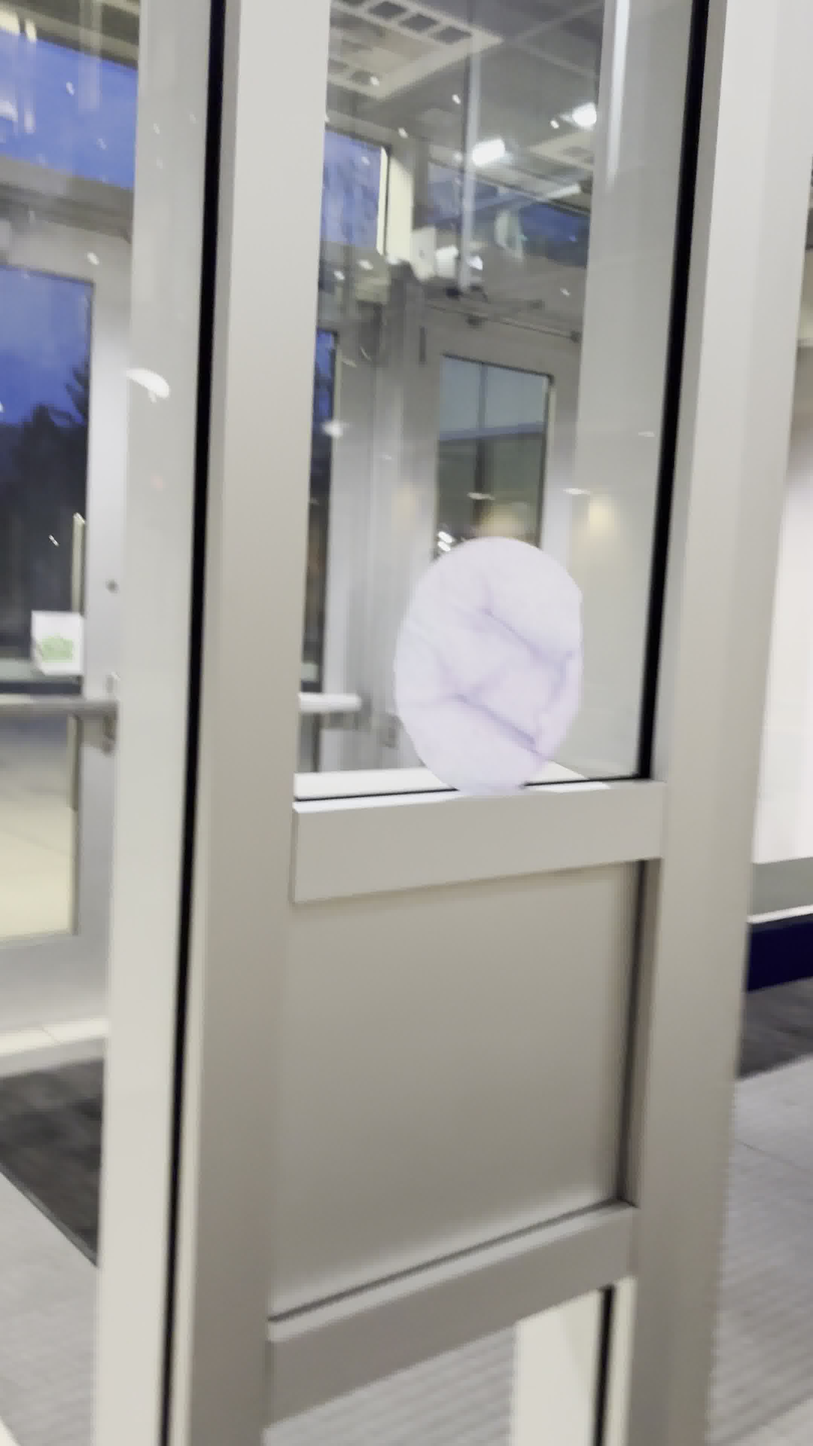Target: (392, 536, 582, 792)
